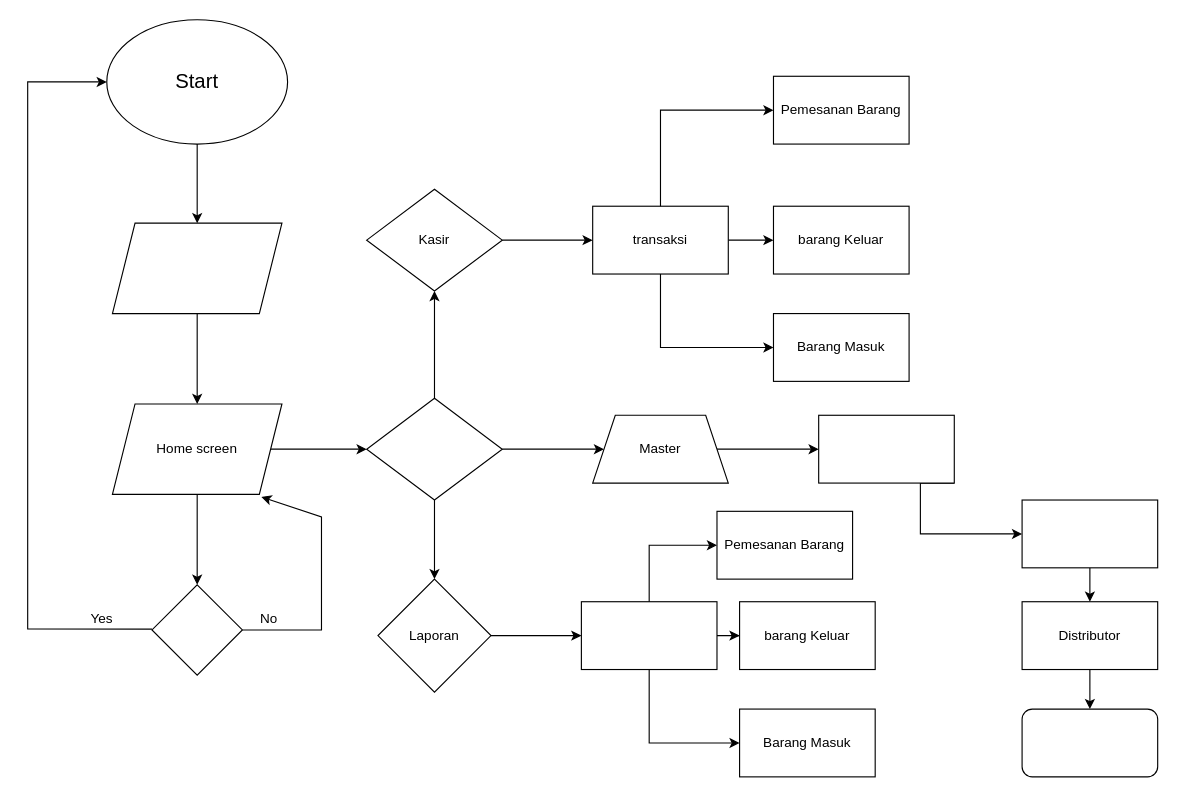
Some shapes in this 1177 by 797 pixel diagram are drawn without their labels. The centre of each missing label's shape, as x and y in pixels:
"Barang" belongs at [886,448].
"Form Login" belongs at [196,268].
"Inventory" belongs at [648,635].
"Jenis Barang" belongs at [1089,533].
"Keluar" belongs at [196,629].
"Menu" belongs at [434,448].
"Pengguna" belongs at [1089,742].
